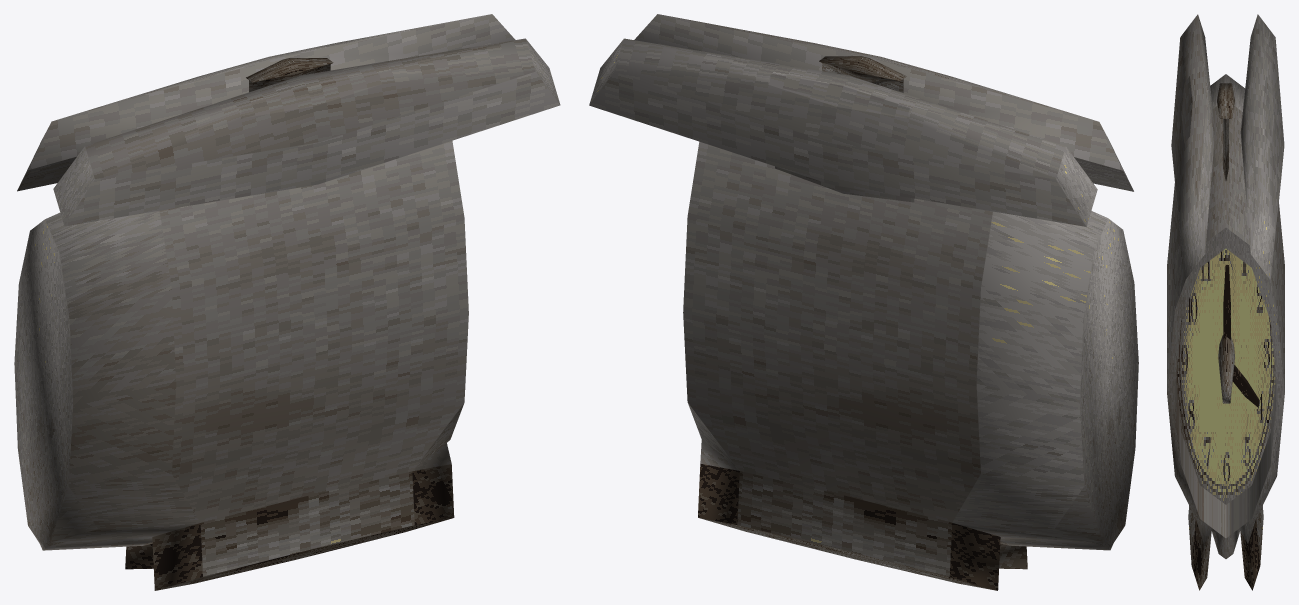
The model's file is Clock_Free.glb.
3 views of the same model, side by side, from view 1: azimuth 30°, elevation 25°; view 2: azimuth 150°, elevation 25°; view 3: azimuth 270°, elevation 25° (orthographic). The views are drawn at different scales.
Visible parts, largest first — view 1: Cube; view 2: Cube; view 3: Cube.
Boxes of the visible parts, x1,y1,x2,y2 form: Cube: [14, 14, 560, 590]; Cube: [589, 14, 1138, 590]; Cube: [1167, 14, 1284, 590].
Bounding box in the file's own units: 0.35 × 0.33 × 0.08.
1 material, 1 textured.
